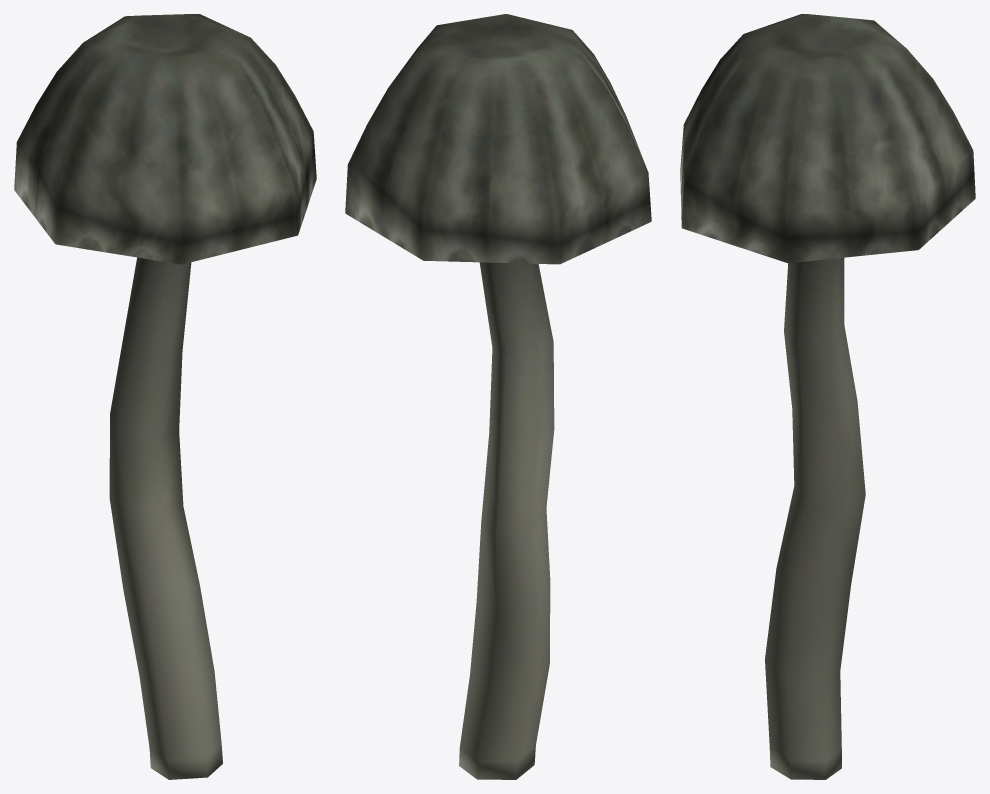
File: cave_mushroom_single_02.dae
3 views of the same model, side by side, from view 1: azimuth 30°, elevation 25°; view 2: azimuth 150°, elevation 25°; view 3: azimuth 270°, elevation 25° (orthographic).
Visible parts, largest first — view 1: 02; view 2: 02; view 3: 02.
Part boxes in pixels (bbox=[...]): 02: bbox=[14, 14, 316, 779]; 02: bbox=[345, 14, 651, 779]; 02: bbox=[680, 14, 975, 779].
Bounding box in the file's own units: 0.0902 × 0.2388 × 0.0882.
